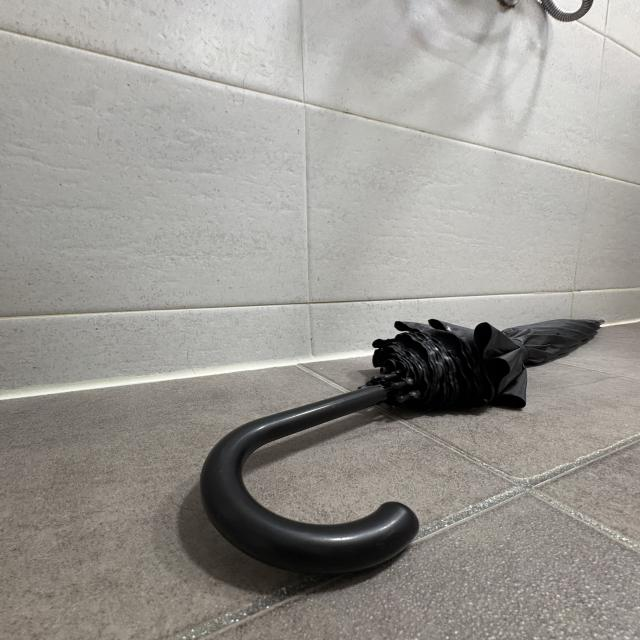umbrella: (199, 319, 609, 580)
